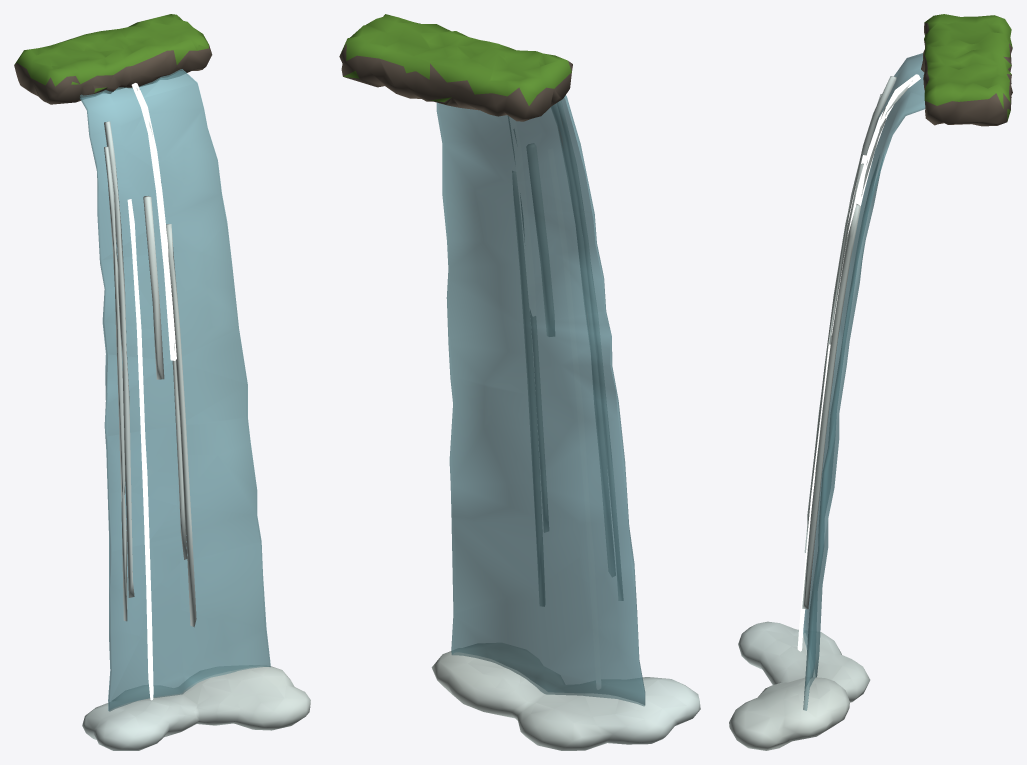
File: glade_waterfall_lod1.glb
The picture shows the model from 3 angles, left to right: view 1: azimuth 30°, elevation 25°; view 2: azimuth 150°, elevation 25°; view 3: azimuth 270°, elevation 25°; orthographic projection. The views are drawn at different scales.
Visible parts, largest first — view 1: glade_waterfall.001; view 2: glade_waterfall.001; view 3: glade_waterfall.001.
Boxes of the visible parts, box(x1,y1,x2,y2) form: glade_waterfall.001: box(14, 14, 310, 750); glade_waterfall.001: box(339, 14, 700, 750); glade_waterfall.001: box(729, 14, 1012, 750).
Size of the model in its own units: 5.17 by 14.96 by 5.83.
